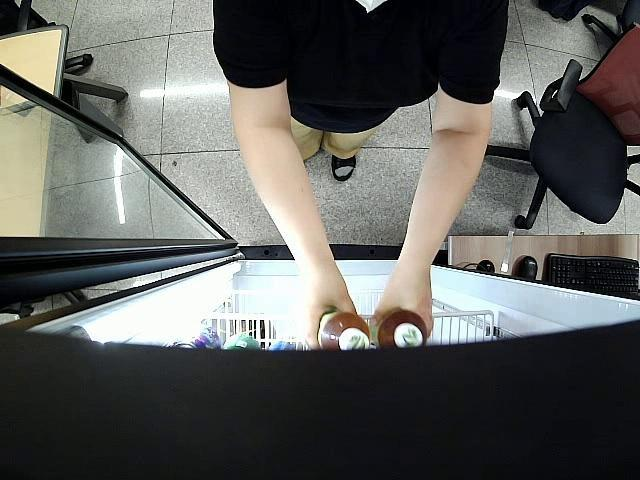19_17cha: (372, 312, 428, 352), (316, 312, 369, 348)
